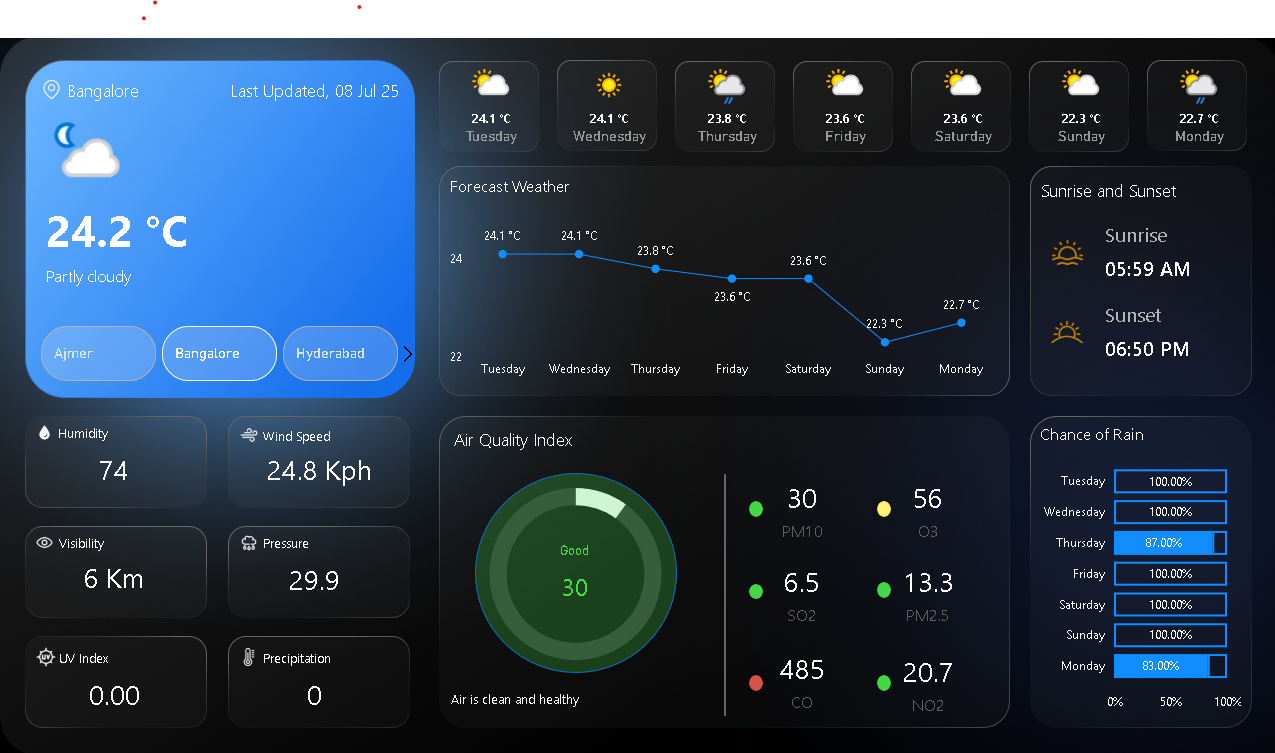

What the dashboard file says about the page in this screenshot:
{"tool":"powerbi","page":{"name":"Page 1","canvas":[1280,720],"ordinal":0},"visuals":[{"type":"donutChart","fields":{"Y":["Sum(Current.current.air_quality.pm10)","_Measures.Left_value_PM10"]},"box":[463,416,225,240],"z":0},{"type":"shape","box":[475,435,201.7,200],"z":1000},{"type":"advancedSlicerVisual","fields":{"Values":["Locations.location.name"]},"box":[16.2,282.5,406.2,65],"z":2000},{"type":"shape","box":[46,160,179,62],"z":3000},{"type":"shape","box":[46,222,361,30],"z":4000},{"type":"shape","box":[67,33,115,38],"z":5000},{"type":"shape","box":[208.8,32.5,190,38.8],"z":6000},{"type":"image","box":[34.5,37.3,32.7,29.1],"z":7000},{"type":"cardVisual","fields":{"Data":["Min(Current.current.condition.icon)"]},"box":[28.3,61.7,106.7,98.3],"z":8000},{"type":"image","box":[30,490,29.1,29.1],"z":9000},{"type":"shape","box":[59.1,492.7,136.4,23.6],"z":10000},{"type":"image","box":[30,381.8,29.1,25.5],"z":11000},{"type":"shape","box":[58.2,382.7,136.4,23.6],"z":12000},{"type":"image","box":[30,603.6,31,30],"z":13000},{"type":"image","box":[234.5,382.7,28.2,28.2],"z":14000},{"type":"image","box":[234.5,490,28.2,29.1],"z":15000},{"type":"image","box":[234.5,603.6,28.2,30],"z":16000},{"type":"shape","box":[59.1,607.3,136.4,23.6],"z":17000},{"type":"shape","box":[262.7,385.5,136.4,23.6],"z":18000},{"type":"shape","box":[262.7,492.7,136.4,23.6],"z":19000},{"type":"shape","box":[262.7,607.3,136.4,23.6],"z":20000},{"type":"card","fields":{"Values":["Sum(Current.current.humidity)"]},"box":[72.5,411.2,82.5,43.8],"z":21000},{"type":"card","fields":{"Values":["_Measures.Wind_Speed"]},"box":[250,411.2,137.5,43.8],"z":22000},{"type":"card","fields":{"Values":["_Measures.Visibility"]},"box":[72.5,516.2,82.5,50],"z":23000},{"type":"card","fields":{"Values":["Sum(Current.current.pressure_in)"]},"box":[272.7,519.1,81.8,47.3],"z":24000},{"type":"card","fields":{"Values":["Sum(Current.current.uv)"]},"box":[72.7,633.6,81.8,47.3],"z":25000},{"type":"card","fields":{"Values":["Sum(Current.current.precip_in)"]},"box":[272.7,633.6,81.8,47.3],"z":26000},{"type":"advancedSlicerVisual","fields":{"Values":["Forecast_Day.Day_Name"]},"box":[431.2,18.8,833.8,105],"z":27000},{"type":"lineChart","title":"Forecast Weather","fields":{"Y":["Sum(Forecast_Day.forecast.forecastday.day.avgtemp_c)"],"Category":["Forecast_Day.Day_Name"]},"box":[445,136.7,551.7,211.7],"z":28000},{"type":"shape","box":[1041.2,136.2,166.2,32.5],"z":29000},{"type":"shape","box":[1105,177.5,130,37.5],"z":30000},{"type":"shape","box":[1105,257.5,130,37.5],"z":31000},{"type":"shape","box":[1105,215,130,25],"z":32000},{"type":"shape","box":[1105,295,130,25],"z":33000},{"type":"image","box":[1035,267.5,63.8,52.5],"z":34000},{"type":"image","box":[1041.2,193.8,51.2,41.2],"z":35000},{"type":"hundredPercentStackedBarChart","title":"Chance of Rain","fields":{"Y":["Sum(Forecast_Day.forecast.forecastday.day.daily_chance_of_rain)","Current.Left_value_Rain"],"Category":["Forecast_Day.Day_Name"]},"box":[1035,385,211.2,296.2],"z":36000},{"type":"shape","box":[453.8,385,166.2,32.5],"z":37000},{"type":"card","fields":{"Values":["Sum(Current.current.air_quality.pm10)"]},"box":[762.9,435.7,78.6,70],"z":38000},{"type":"card","fields":{"Values":["Sum(Current.current.air_quality.so2)"]},"box":[762.9,520,78.6,70],"z":39000},{"type":"card","fields":{"Values":["Sum(Current.current.air_quality.co)"]},"box":[762.9,607.1,78.6,70],"z":40000},{"type":"card","fields":{"Values":["Sum(Current.current.air_quality.pm2_5)"]},"box":[888.6,520,78.6,70],"z":41000},{"type":"card","fields":{"Values":["Sum(Current.current.air_quality.o3)"]},"box":[888.6,435.7,78.6,70],"z":42000},{"type":"card","fields":{"Values":["Sum(Current.current.air_quality.no2)"]},"box":[888.6,610,78.6,70],"z":43000},{"type":"shape","box":[748.6,462.9,14.3,15.7],"z":44000},{"type":"shape","box":[748.6,545.7,14.3,15.7],"z":45000},{"type":"shape","box":[748.6,637.1,14.3,15.7],"z":46000},{"type":"shape","box":[877.1,462.9,14.3,15.7],"z":47000},{"type":"shape","box":[877.1,544.3,14.3,15.7],"z":48000},{"type":"shape","box":[877.1,637.1,14.3,15.7],"z":49000},{"type":"shape","box":[701.2,436.2,47.5,241.2],"z":50000},{"type":"card","fields":{"Values":["Sum(Current.current.air_quality.pm10)"]},"box":[517.5,505,113.8,75],"z":51000},{"type":"shape","box":[451,640,270,41],"z":51001}]}

Visuals, with their boxes on the page's 1280x720 design canvas (x1, y1, x2, y2). These are canvas units, not pixel positions in the 1275x753 screenshot, which may show the page scaled, cropped or inside an application window:
donutChart - Sum(Current.current.air_quality.pm10) x _Measures.Left_value_PM10: <box>463,416,688,656</box>
shape: <box>475,435,677,635</box>
advancedSlicerVisual - Locations.location.name: <box>16,282,422,348</box>
shape: <box>46,160,225,222</box>
shape: <box>46,222,407,252</box>
shape: <box>67,33,182,71</box>
shape: <box>209,32,399,71</box>
image: <box>34,37,67,66</box>
cardVisual - Min(Current.current.condition.icon): <box>28,62,135,160</box>
image: <box>30,490,59,519</box>
shape: <box>59,493,196,516</box>
image: <box>30,382,59,407</box>
shape: <box>58,383,195,406</box>
image: <box>30,604,61,634</box>
image: <box>234,383,263,411</box>
image: <box>234,490,263,519</box>
image: <box>234,604,263,634</box>
shape: <box>59,607,196,631</box>
shape: <box>263,386,399,409</box>
shape: <box>263,493,399,516</box>
shape: <box>263,607,399,631</box>
card - Sum(Current.current.humidity): <box>72,411,155,455</box>
card - _Measures.Wind_Speed: <box>250,411,388,455</box>
card - _Measures.Visibility: <box>72,516,155,566</box>
card - Sum(Current.current.pressure_in): <box>273,519,354,566</box>
card - Sum(Current.current.uv): <box>73,634,154,681</box>
card - Sum(Current.current.precip_in): <box>273,634,354,681</box>
advancedSlicerVisual - Forecast_Day.Day_Name: <box>431,19,1265,124</box>
"Forecast Weather" lineChart: <box>445,137,997,348</box>
shape: <box>1041,136,1207,169</box>
shape: <box>1105,178,1235,215</box>
shape: <box>1105,258,1235,295</box>
shape: <box>1105,215,1235,240</box>
shape: <box>1105,295,1235,320</box>
image: <box>1035,268,1099,320</box>
image: <box>1041,194,1092,235</box>
"Chance of Rain" hundredPercentStackedBarChart: <box>1035,385,1246,681</box>
shape: <box>454,385,620,418</box>
card - Sum(Current.current.air_quality.pm10): <box>763,436,842,506</box>
card - Sum(Current.current.air_quality.so2): <box>763,520,842,590</box>
card - Sum(Current.current.air_quality.co): <box>763,607,842,677</box>
card - Sum(Current.current.air_quality.pm2_5): <box>889,520,967,590</box>
card - Sum(Current.current.air_quality.o3): <box>889,436,967,506</box>
card - Sum(Current.current.air_quality.no2): <box>889,610,967,680</box>
shape: <box>749,463,763,479</box>
shape: <box>749,546,763,561</box>
shape: <box>749,637,763,653</box>
shape: <box>877,463,891,479</box>
shape: <box>877,544,891,560</box>
shape: <box>877,637,891,653</box>
shape: <box>701,436,749,677</box>
card - Sum(Current.current.air_quality.pm10): <box>518,505,631,580</box>
shape: <box>451,640,721,681</box>
